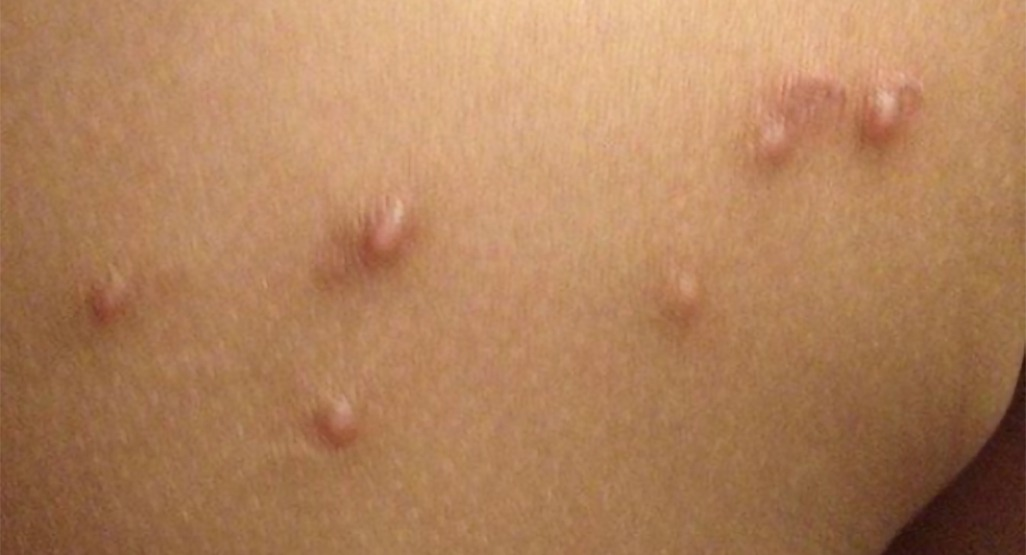Warts: (61, 50, 911, 504)
